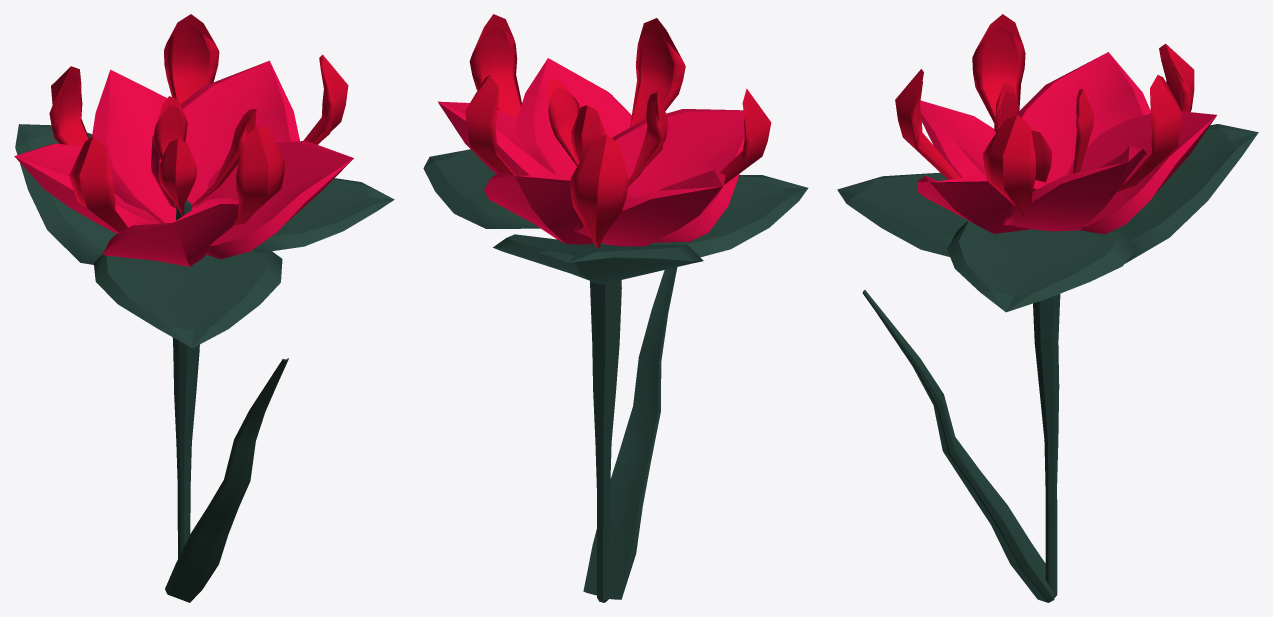
The model's file is LilyFlower.fbx.
3 renders of one model, left to right at view 1: azimuth 30°, elevation 25°; view 2: azimuth 150°, elevation 25°; view 3: azimuth 270°, elevation 25°, orthographic. The views are drawn at different scales.
Parts seen in each view (by area): view 1: polySurface22; view 2: polySurface22; view 3: polySurface22.
Part boxes in pixels (x1,y1,x2,y2): polySurface22: [14, 14, 394, 602]; polySurface22: [423, 14, 808, 602]; polySurface22: [837, 14, 1258, 602].
Size of the model in its own units: 0.1064 by 0.1633 by 0.1126.
